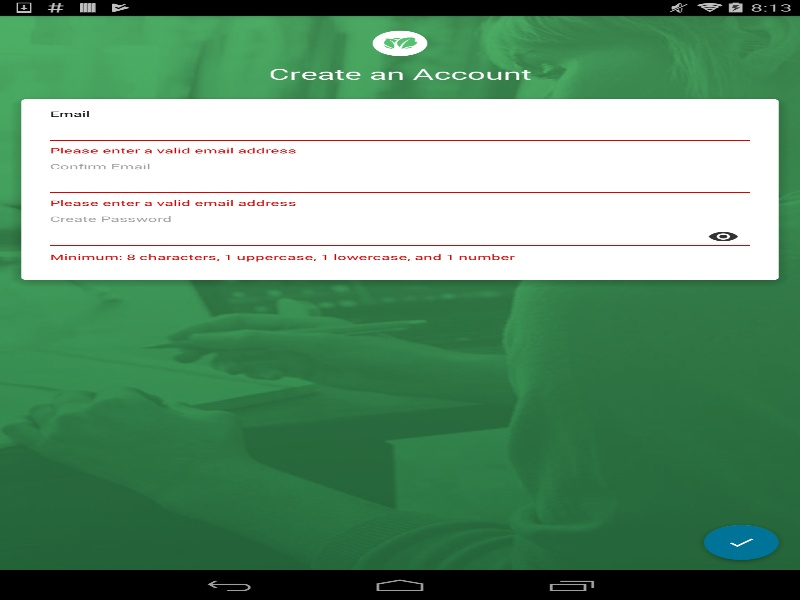Button: (688, 513, 794, 571), (691, 221, 755, 251)
Input: (44, 116, 755, 145), (44, 169, 755, 197), (44, 222, 755, 250)
